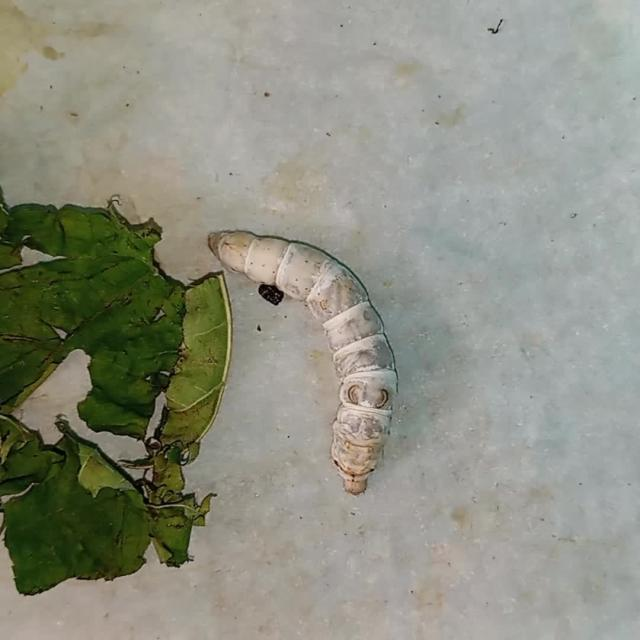Grasserie: (184, 200, 416, 508)
